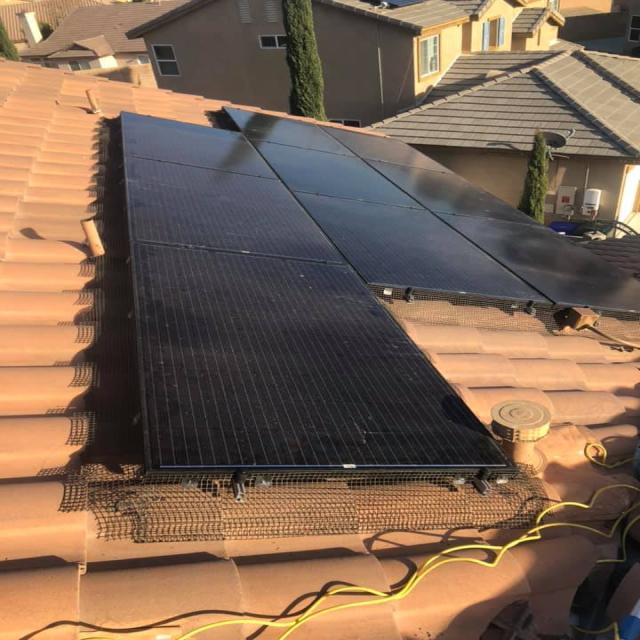dust-solar-panel: (119, 111, 518, 472)
